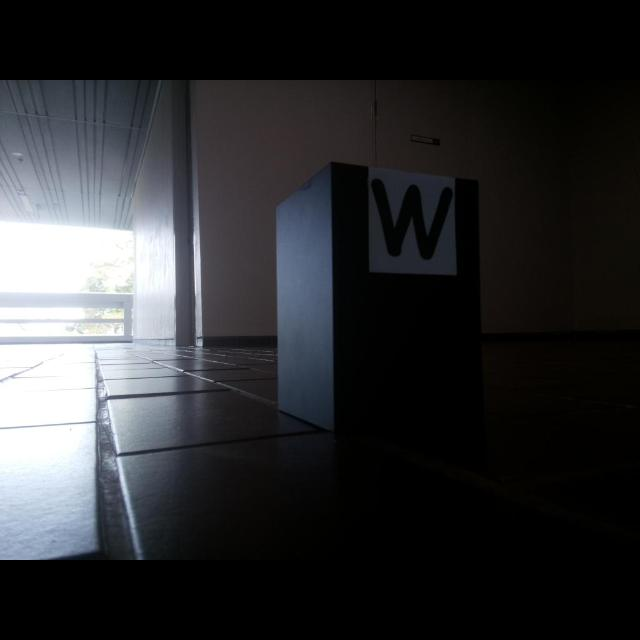W: (370, 176, 455, 263)
